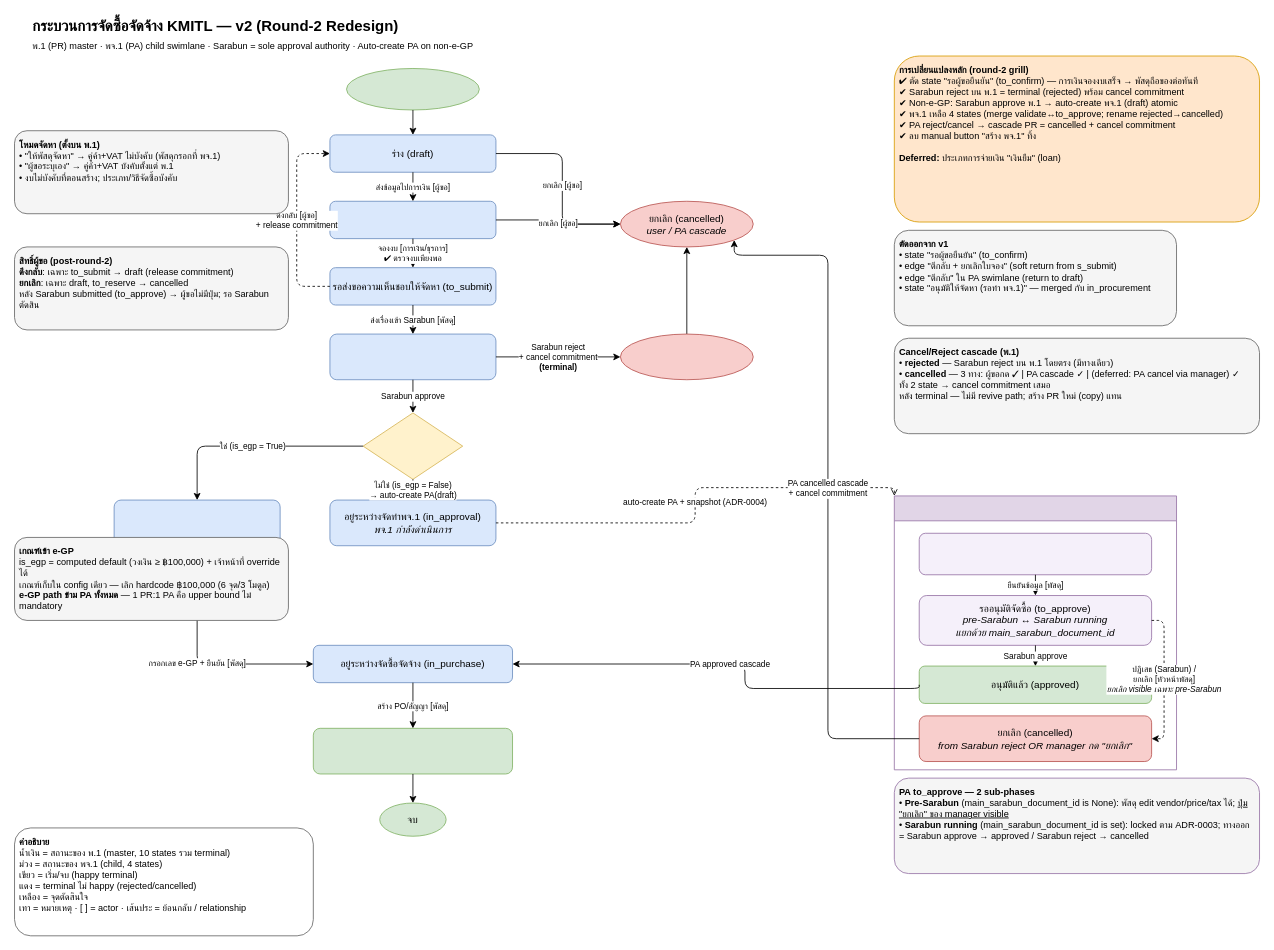
Some shapes in this 1274 by 950 pixel diagram are drawn without their labels. Each missing label, with the box of its shape:
e-GP ? is_egp?: (362, 412, 463, 479)
จัดซื้อจัดจ้างเสร็จสิ้น (done) สร้างสัญญา/PO เสร็จ — จบเฟส 1: (312, 727, 513, 774)
ปฏิเสธ (rejected) Sarabun reject only: (620, 333, 753, 380)
พจ.1 (PA) — โมเดลแยก · purchase.request.approval · 4 states: (893, 495, 1177, 770)
รอจองงบประมาณ (to_verify): (329, 200, 496, 239)
รอดำเนินการ e-GP (in_egp) กรอกเลขที่โครงการ: (113, 499, 280, 546)
รอพิจารณาให้จัดหา (to_approve) Sarabun running: (329, 333, 496, 380)
ร่าง พจ.1 (draft) snapshot จาก พ.1: (918, 532, 1152, 575)
เริ่ม (ผู้ขอสร้าง พ.1): (346, 68, 479, 110)
